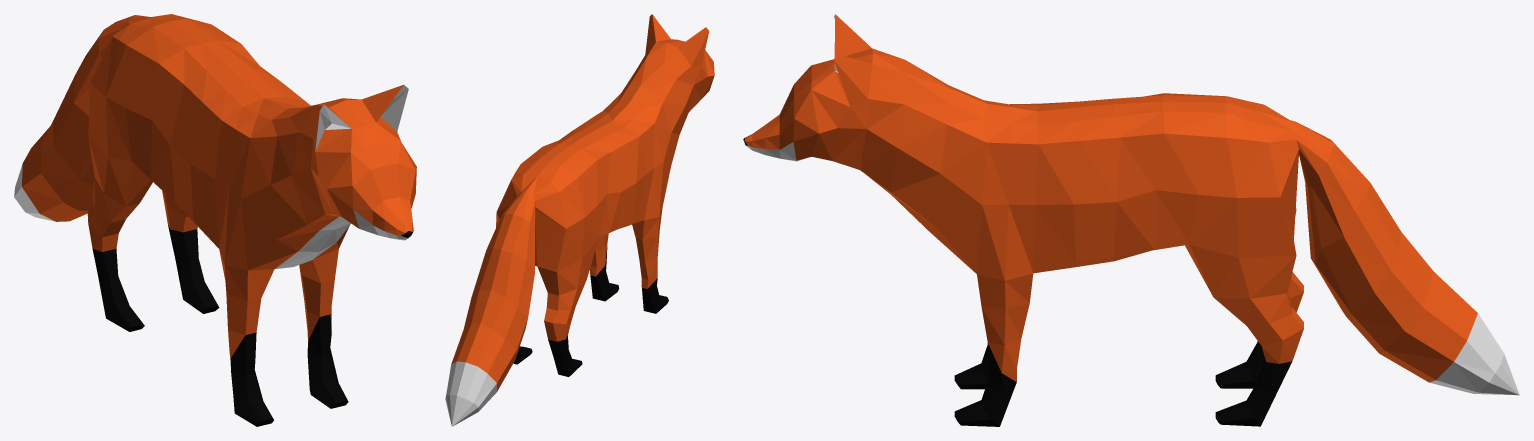
Rendered from Fox.fbx.
3 renders of one model, left to right at view 1: azimuth 30°, elevation 25°; view 2: azimuth 150°, elevation 25°; view 3: azimuth 270°, elevation 25°, orthographic. The views are drawn at different scales.
Visible parts, largest first — view 1: Plane.002; view 2: Plane.002; view 3: Plane.002.
Part boxes in pixels (x1=…): Plane.002: x1=14, y1=14, x2=416, y2=426; Plane.002: x1=445, y1=14, x2=714, y2=426; Plane.002: x1=743, y1=14, x2=1519, y2=426.
Bounding box in the file's own units: 69.5 × 209 × 398.
